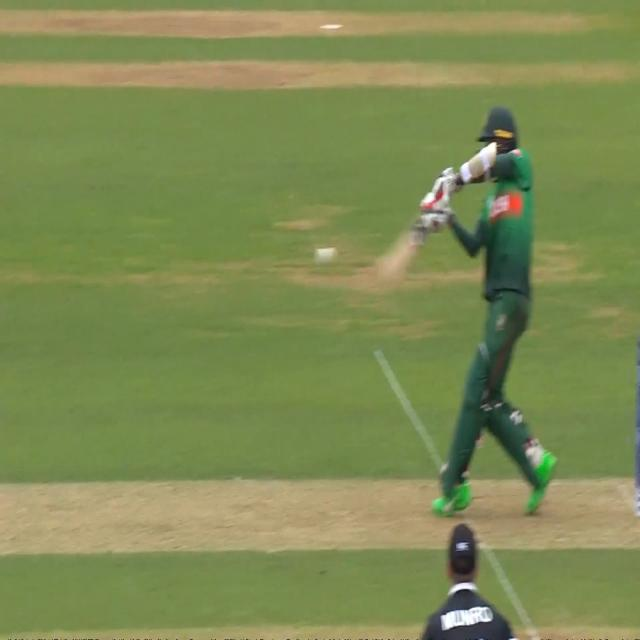ball: (314, 237, 341, 273)
